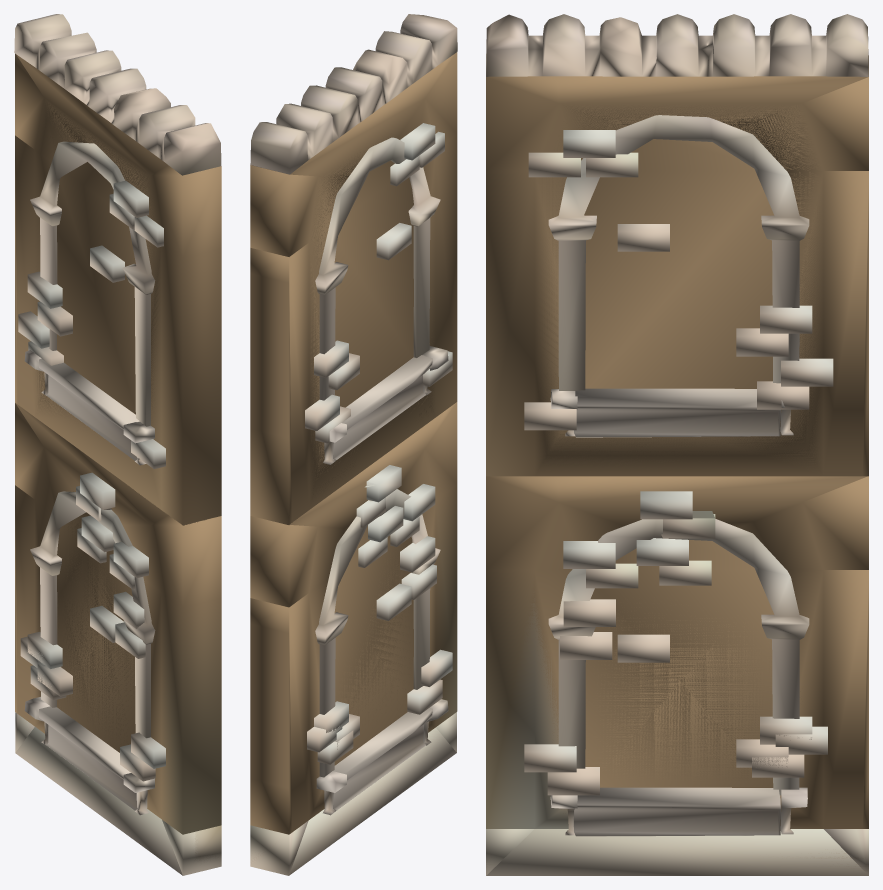
File: wallwindow.glb
The picture shows the model from 3 angles, left to right: view 1: azimuth 30°, elevation 25°; view 2: azimuth 150°, elevation 25°; view 3: azimuth 270°, elevation 25°; orthographic projection. The views are drawn at different scales.
Parts seen in each view (by area): view 1: wallA, wallB, wallD, wallC, wallE; view 2: wallB, wallA, wallC, wallD, wallE; view 3: wallA, wallB, wallD, wallC, wallE.
Part boxes in pixels (left/top/right/bottom): wallA: left=15, top=14, right=221, bottom=865; wallB: left=14, top=23, right=221, bottom=875; wallD: left=20, top=513, right=145, bottom=752; wallC: left=27, top=491, right=221, bottom=832; wallE: left=18, top=215, right=165, bottom=781; wallB: left=250, top=21, right=457, bottom=875; wallA: left=250, top=14, right=457, bottom=875; wallC: left=250, top=484, right=435, bottom=865; wallD: left=307, top=506, right=436, bottom=764; wallE: left=305, top=131, right=452, bottom=714; wallA: left=486, top=14, right=868, bottom=875; wallB: left=486, top=14, right=868, bottom=875; wallD: left=560, top=538, right=827, bottom=787; wallC: left=486, top=541, right=866, bottom=875; wallE: left=524, top=152, right=833, bottom=795.
Bounding box in the file's own units: 0.2561 × 2.43 × 1.
